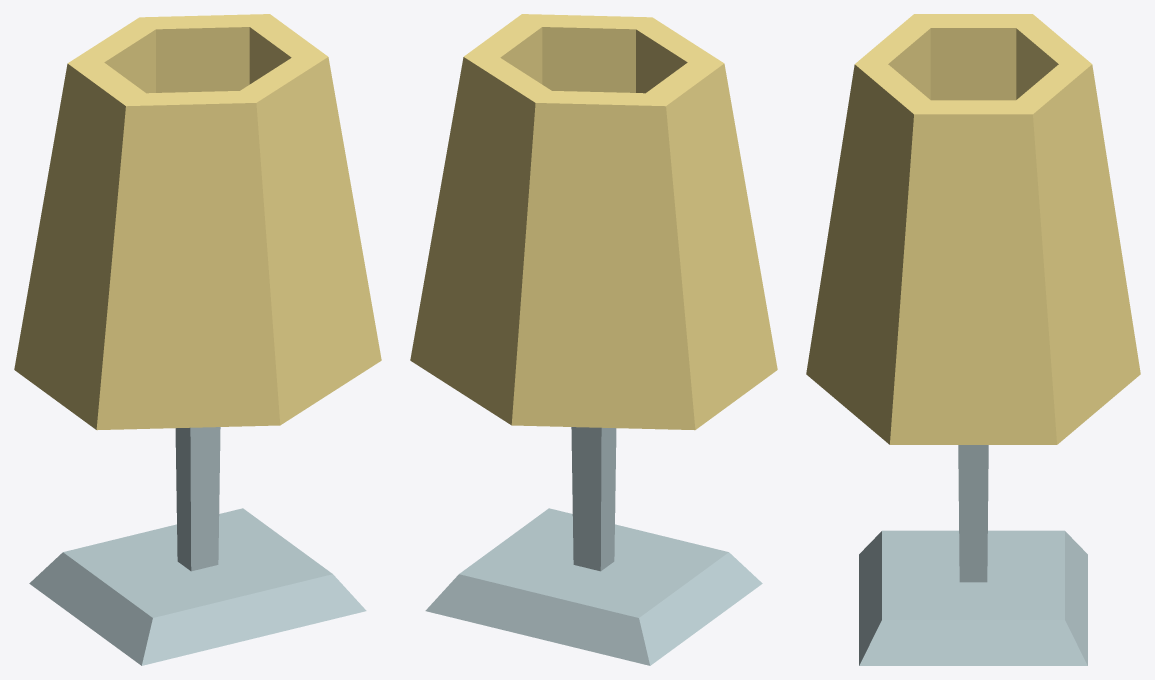
File: furn-light-table-lamp.glb
3 renders of one model, left to right at view 1: azimuth 30°, elevation 25°; view 2: azimuth 150°, elevation 25°; view 3: azimuth 270°, elevation 25°, orthographic.
Parts seen in each view (by area): view 1: lampRoundTable; view 2: lampRoundTable; view 3: lampRoundTable.
Part boxes in pixels (x1,y1,x2,y2): lampRoundTable: (14, 14, 381, 665); lampRoundTable: (410, 14, 777, 665); lampRoundTable: (806, 14, 1140, 665).
Bounding box in the file's own units: 0.25 × 0.45 × 0.25.
